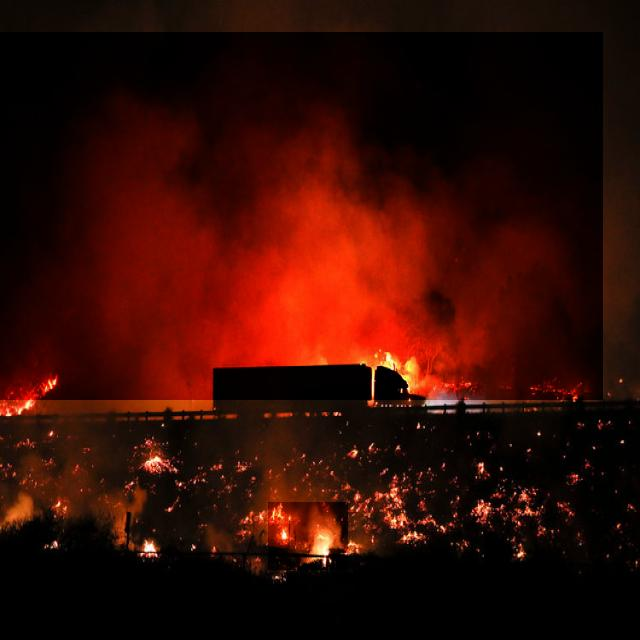Fire: (268, 502, 348, 570), (350, 351, 436, 392)
Smoke: (0, 32, 603, 400)
